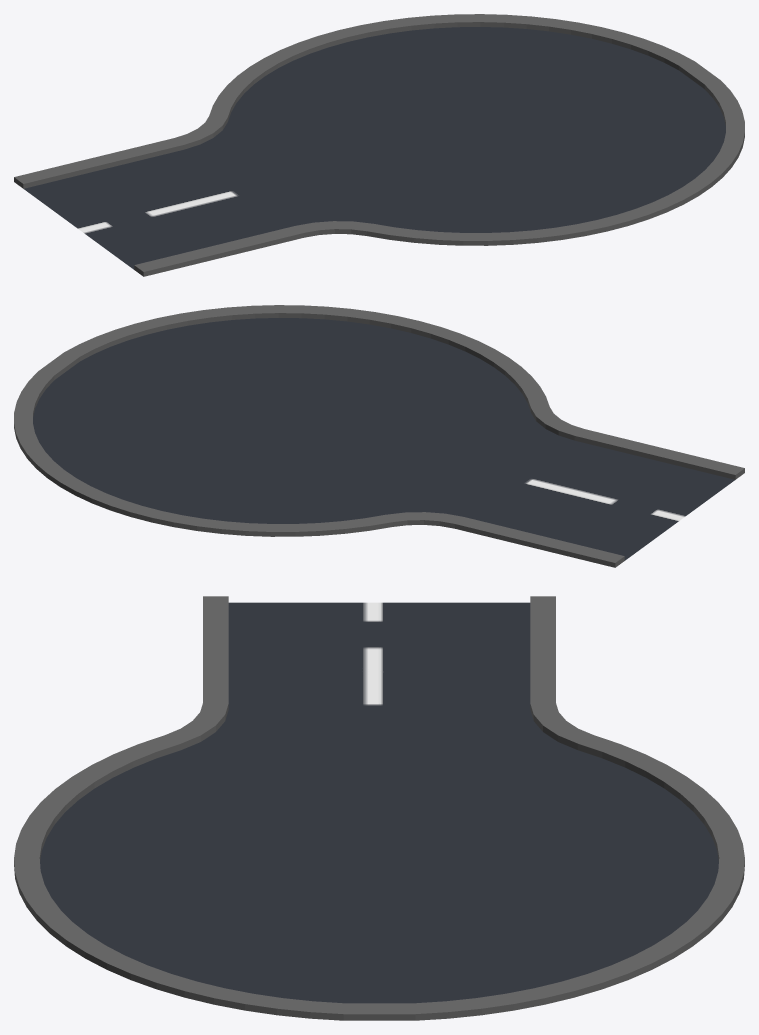
File: fin-road.fbx
3 renders of one model, top to bottom at view 1: azimuth 30°, elevation 25°; view 2: azimuth 150°, elevation 25°; view 3: azimuth 270°, elevation 25°, orthographic. The views are drawn at different scales.
Parts seen in each view (by area): view 1: fin-foad, fin-foad.side; view 2: fin-foad, fin-foad.side; view 3: fin-foad, fin-foad.side.
Part boxes in pixels (x1,y1,x2,y2): fin-foad: (24, 27, 725, 269); fin-foad.side: (14, 14, 744, 276); fin-foad: (33, 318, 734, 560); fin-foad.side: (14, 305, 744, 567); fin-foad: (40, 602, 718, 1003); fin-foad.side: (14, 596, 744, 1020).
Size of the model in its own units: 8084 by 59.32 by 5975.
2 materials, 1 textured.
